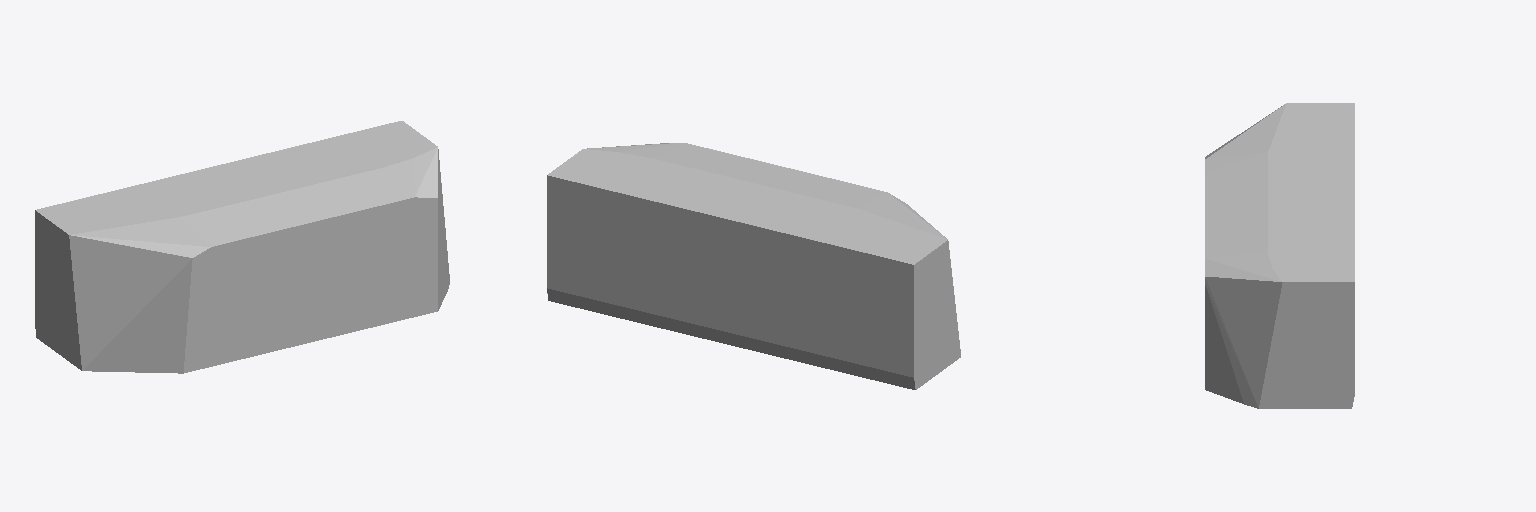
File: ShipScene_collision_43.obj
3 views of the same model, side by side, from view 1: azimuth 30°, elevation 25°; view 2: azimuth 150°, elevation 25°; view 3: azimuth 270°, elevation 25° (orthographic).
Bounding box in the file's own units: 73.36 × 24.19 × 25.93.